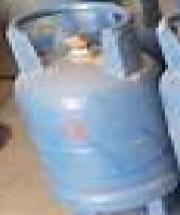cylinder: (1, 0, 180, 215)
